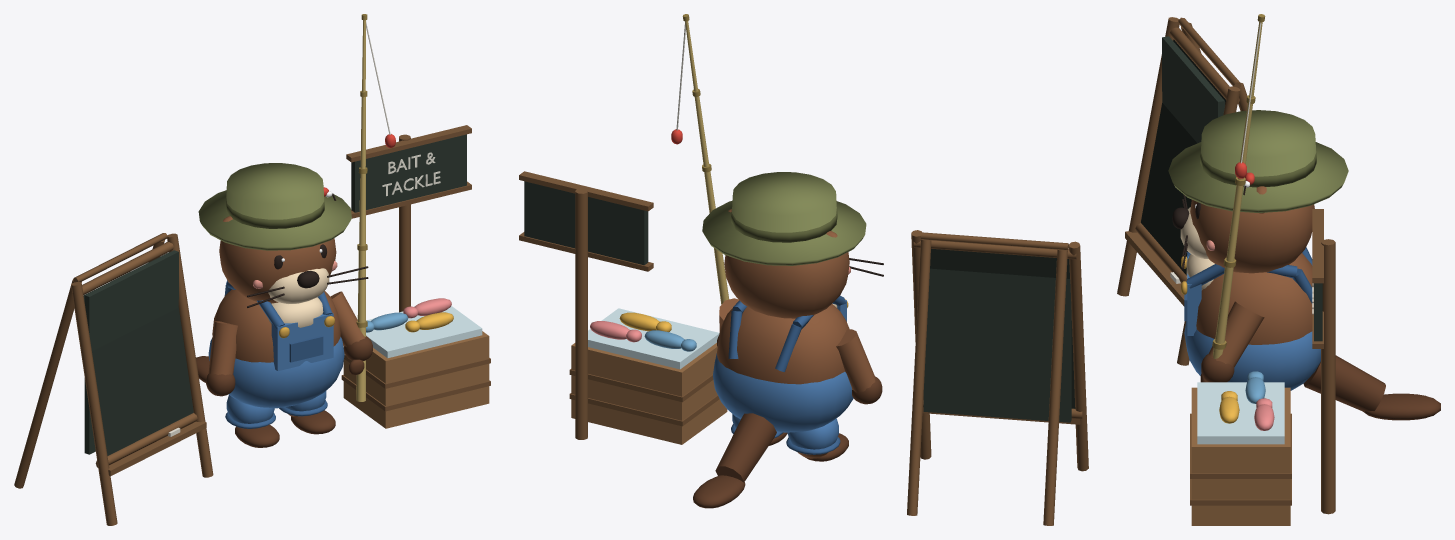
Rendered from barnaby.glb.
3 renders of one model, left to right at view 1: azimuth 30°, elevation 25°; view 2: azimuth 150°, elevation 25°; view 3: azimuth 270°, elevation 25°, orthographic. The views are drawn at different scales.
Parts seen in each view (by area): view 1: Barnaby_Stall, Chalkboard_Frame, Barnaby_Head, Barnaby_Body, Chalkboard_Face, Barnaby_ArmL, Barnaby_ArmR; view 2: Chalkboard_Frame, Barnaby_Stall, Barnaby_Head, Barnaby_Body, Barnaby_Tail, Chalkboard_Face, Barnaby_ArmL, Barnaby_ArmR; view 3: Barnaby_Stall, Barnaby_Head, Barnaby_Body, Chalkboard_Frame, Barnaby_ArmL, Chalkboard_Face, Barnaby_Tail.
Part boxes in pixels (<box>): Barnaby_Stall: <box>341,125,490,428</box>; Chalkboard_Frame: <box>14,233,213,525</box>; Barnaby_Head: <box>198,163,368,307</box>; Barnaby_Body: <box>208,280,344,447</box>; Chalkboard_Face: <box>83,251,193,455</box>; Barnaby_ArmL: <box>330,14,395,401</box>; Barnaby_ArmR: <box>206,321,237,396</box>; Chalkboard_Frame: <box>907,230,1088,525</box>; Barnaby_Stall: <box>519,171,727,444</box>; Barnaby_Head: <box>702,172,883,318</box>; Barnaby_Body: <box>713,295,853,461</box>; Barnaby_Tail: <box>693,413,776,508</box>; Chalkboard_Face: <box>930,248,1075,408</box>; Barnaby_ArmL: <box>671,14,739,346</box>; Barnaby_ArmR: <box>836,329,882,404</box>; Barnaby_Stall: <box>1190,209,1335,525</box>; Barnaby_Head: <box>1168,110,1348,273</box>; Barnaby_Body: <box>1181,247,1320,390</box>; Chalkboard_Frame: <box>1117,17,1247,365</box>; Barnaby_ArmL: <box>1200,14,1265,382</box>; Chalkboard_Face: <box>1141,39,1225,275</box>; Barnaby_Tail: <box>1303,355,1440,420</box>.
Size of the model in its own units: 2.21 by 1.74 by 1.11.
